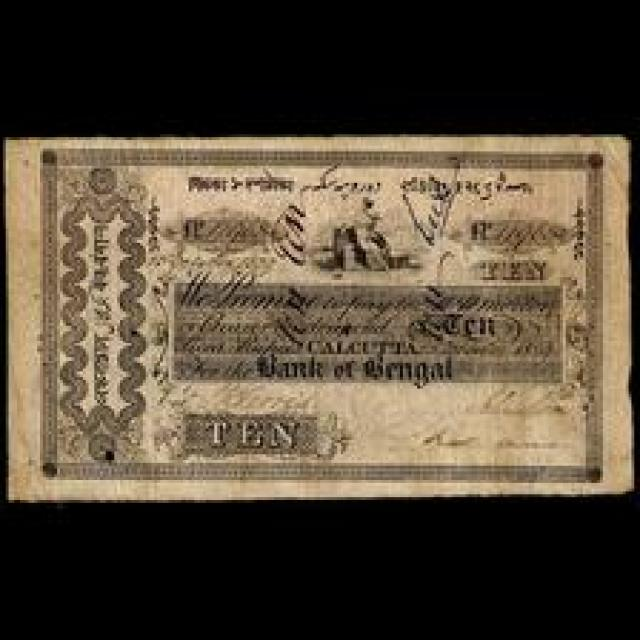banknote: (0, 131, 634, 502)
